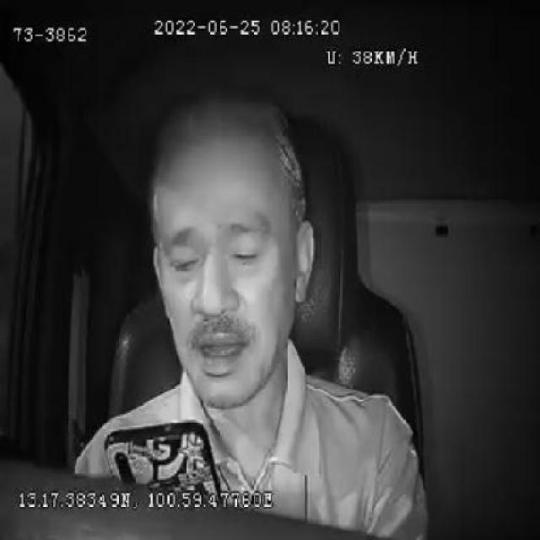phone: (103, 416, 223, 491)
